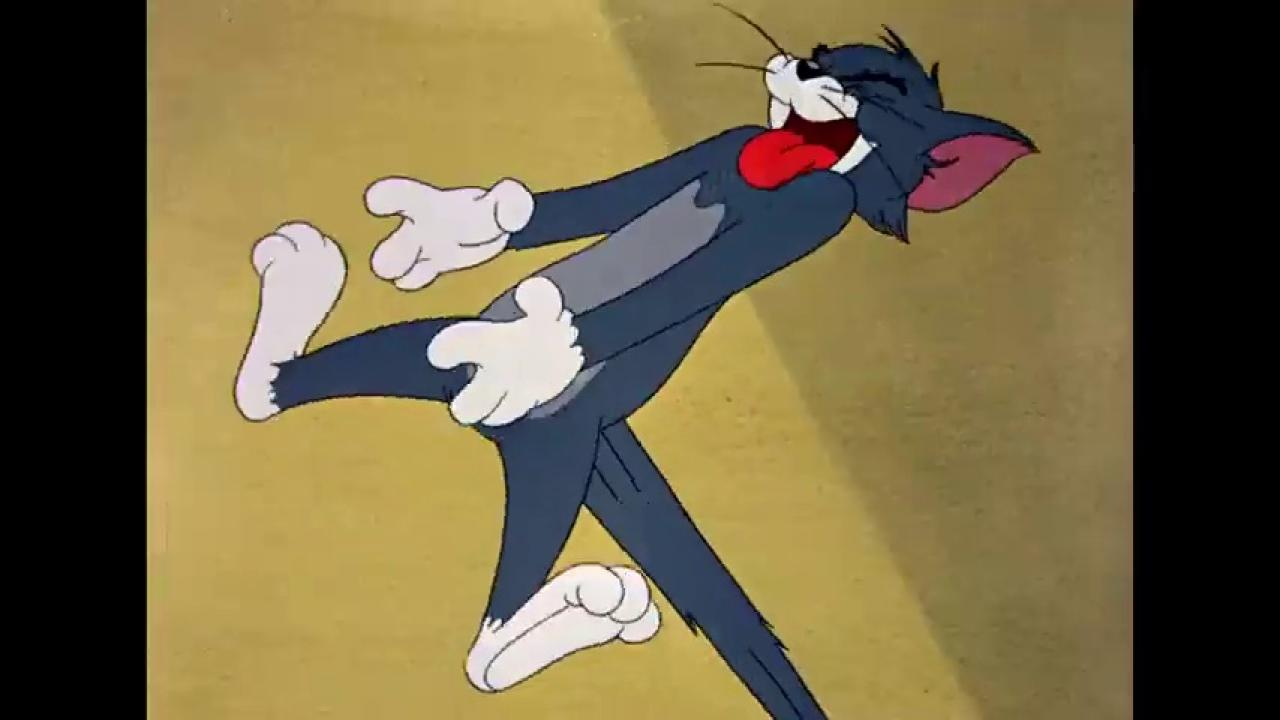Tom: (230, 24, 1043, 720)
